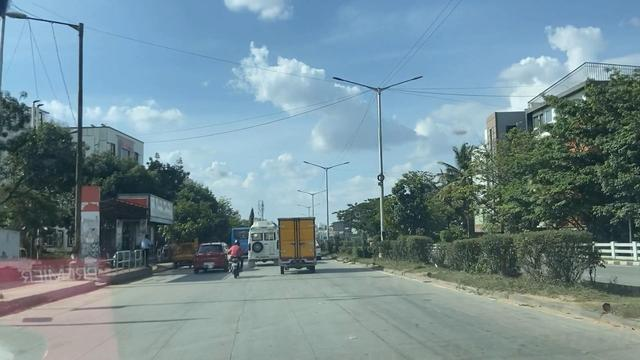HMV: (273, 215, 325, 273)
LMV: (194, 242, 232, 272), (227, 236, 244, 274)
